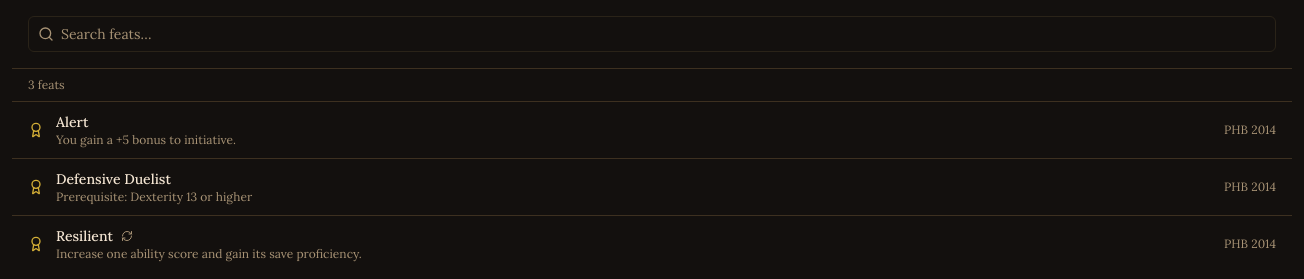
Test: FeatsTab › shows an empty state when no feats match the search
The image size is (1304, 279).
Expected: the text "Alert" is shown, [56,112,88,132]
Type "zzzz" into the field with test id "feat-search".
click(652, 34); type("zzzz")  # box [28,16,1276,52]
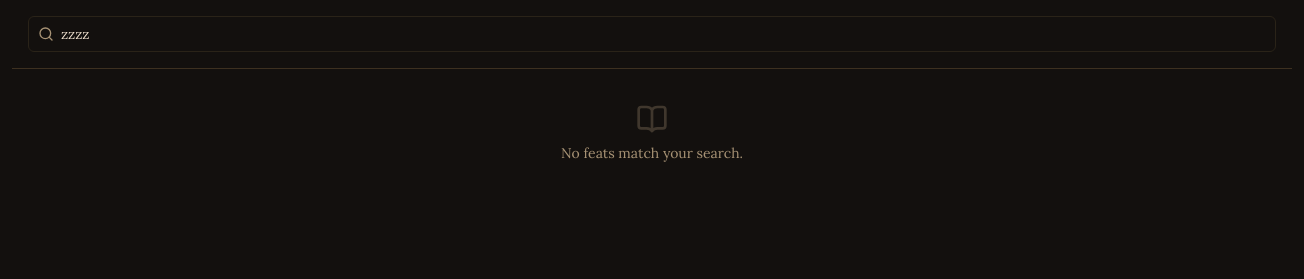
Result: the text "No feats match your search." is shown at [561,143,743,163]
